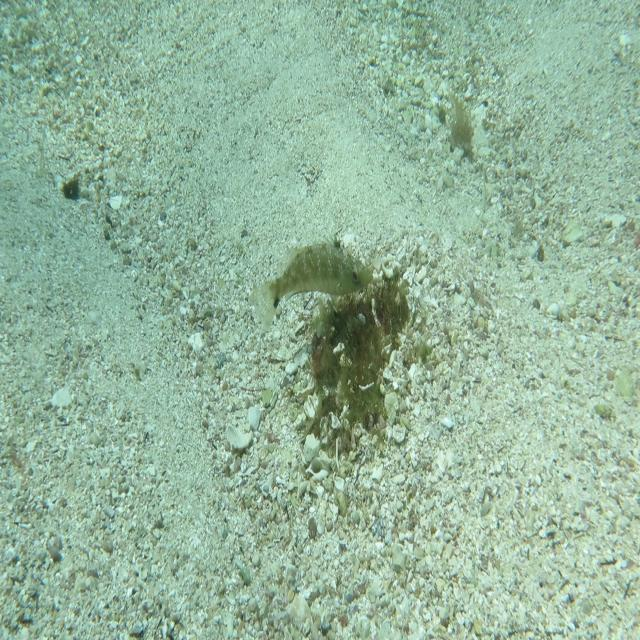FAN: (250, 230, 372, 332)
core_nest: (356, 295, 396, 333)
nest: (288, 259, 417, 471)
vegetation: (438, 98, 474, 152), (63, 178, 82, 204)
